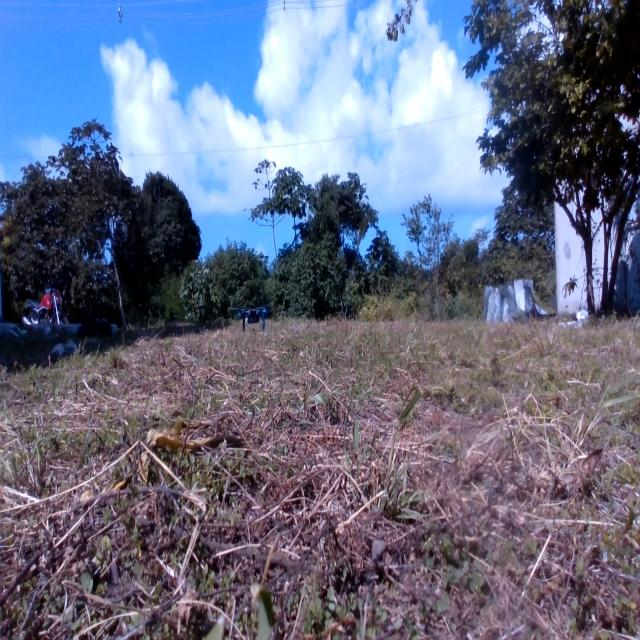-uav-: (236, 296, 272, 338)
